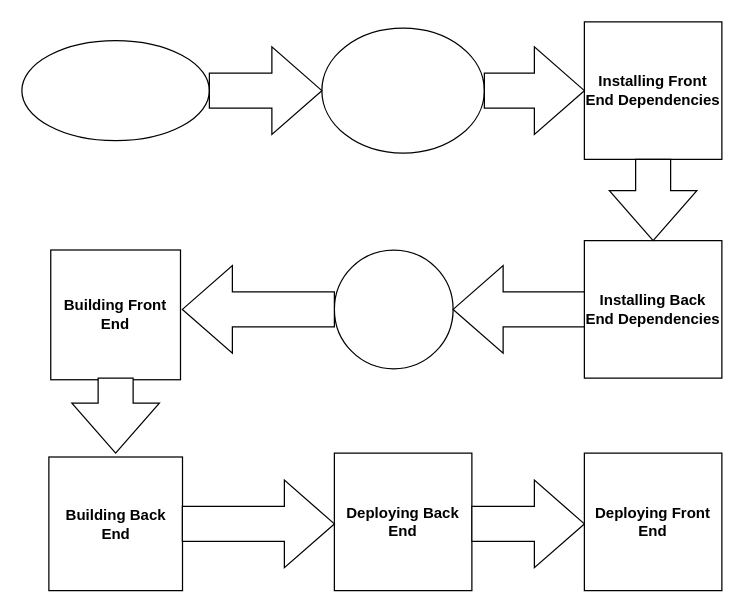
This 744x613 diagram has some shape labels left out. Here are the shapes that lost their labels. From the top down, the centre of each, then its label:
point 115,90: Installing Orbs
point 402,90: Installing AWS CLI and its dependencies
point 393,309: Testing
